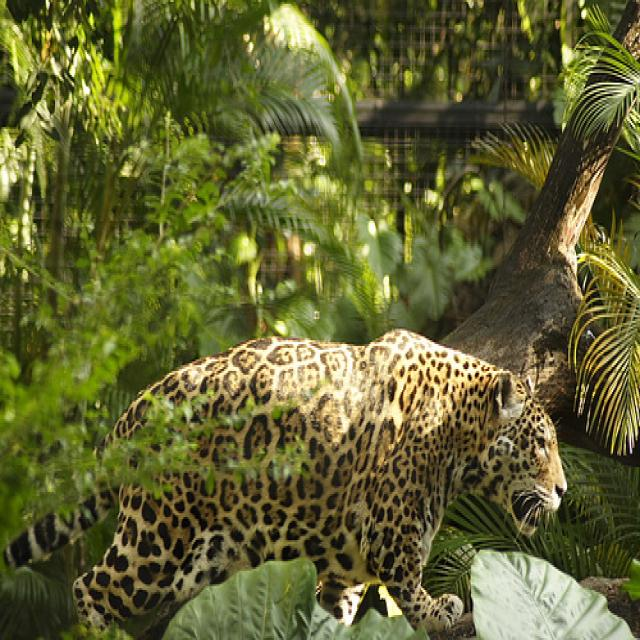Leopard: (0, 327, 566, 636)
